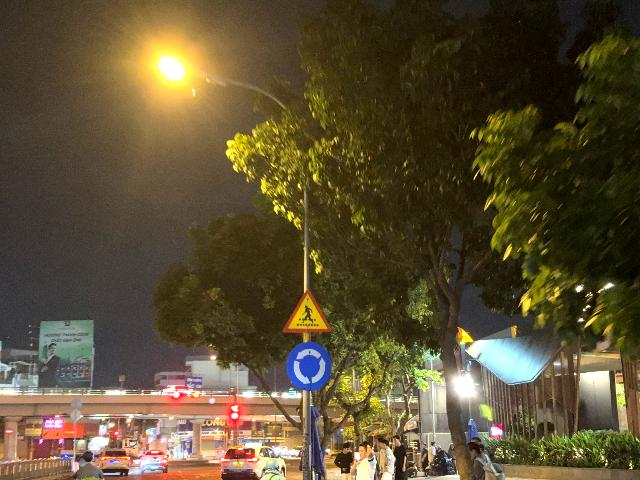duong-nguoi-di-bo-cat-ngang: (282, 288, 332, 333)
noi-giao-nhau-chay-theo-vong-xuyen: (287, 342, 332, 391)
